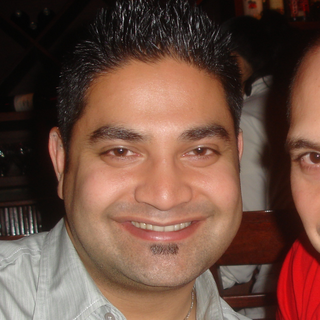eye: (96, 143, 147, 163), (178, 142, 223, 164), (293, 145, 320, 169)
